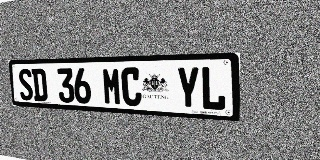3: (57, 68, 75, 103)
6: (73, 68, 92, 104)
C: (121, 67, 142, 107)
D: (31, 69, 48, 102)
L: (201, 66, 226, 111)
M: (102, 68, 122, 106)
S: (18, 69, 34, 101)
Y: (176, 66, 200, 110)
